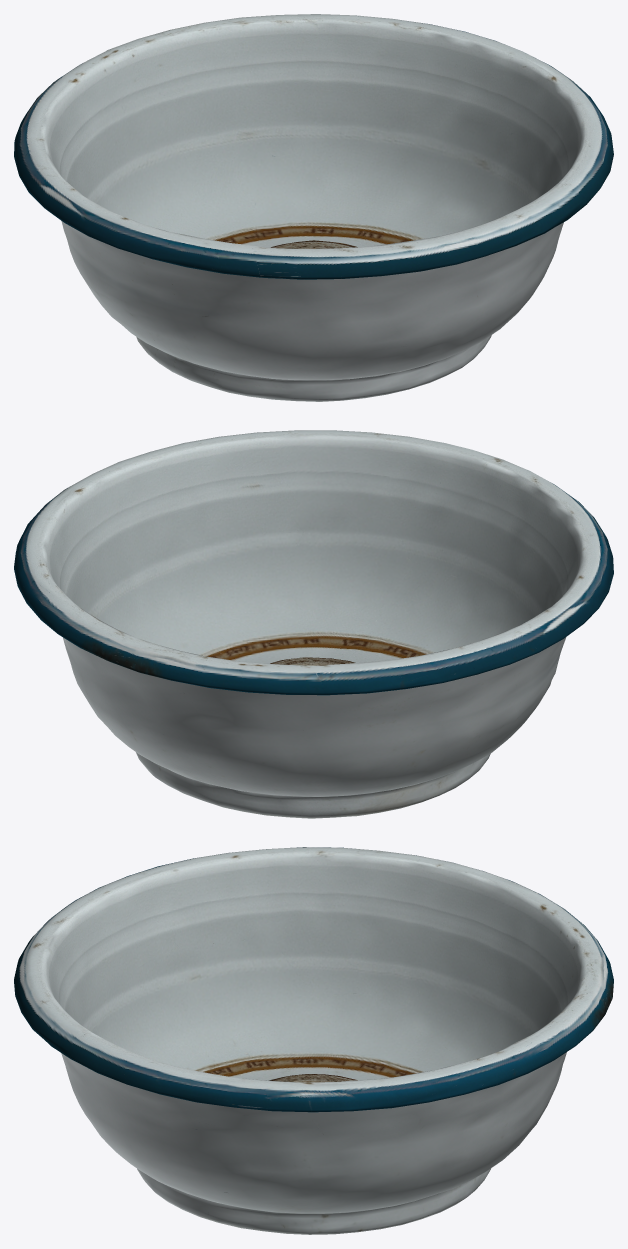
File: EnamelBasin.fbx
3 renders of one model, top to bottom at view 1: azimuth 30°, elevation 25°; view 2: azimuth 150°, elevation 25°; view 3: azimuth 270°, elevation 25°, orthographic.
Visible parts, largest first — view 1: mesh_node; view 2: mesh_node; view 3: mesh_node.
Part boxes in pixels (box(x1,y1,x2,y2)): mesh_node: box(14, 14, 613, 401); mesh_node: box(14, 430, 613, 818); mesh_node: box(14, 847, 613, 1234).
Bounding box in the file's own units: 190 × 67.71 × 191.
1 material, 1 textured.
